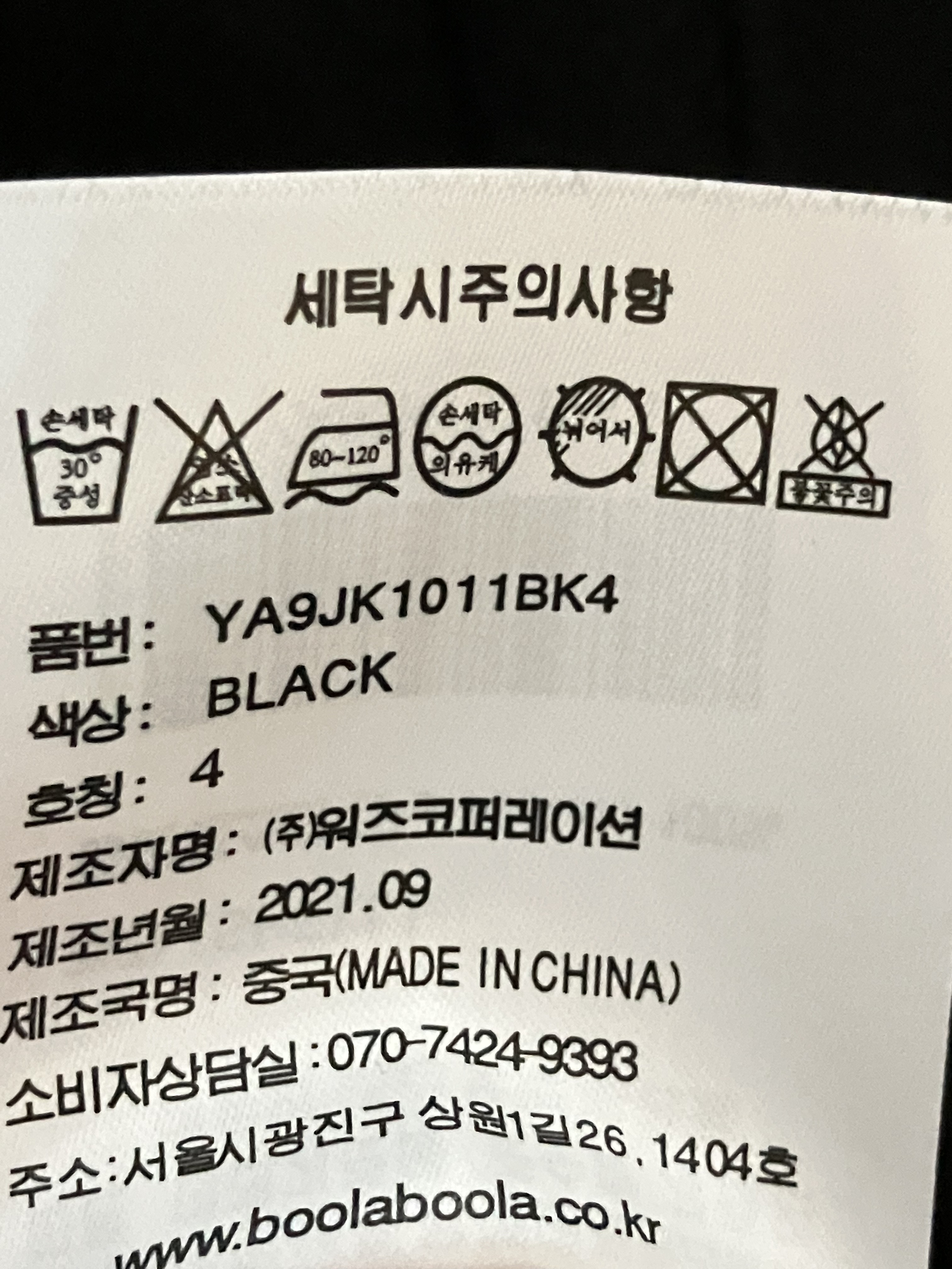KR_dry_clean_petroleum: (407, 375, 530, 500)
KR_flat_dry_in_shade: (535, 371, 653, 494)
KR_hand_wash_30_neutral: (10, 395, 144, 531)
KR_iron_low_temp_with_cloth: (286, 384, 406, 517)
KR_no_bleach: (151, 392, 277, 528)
KR_no_tumble_dry: (657, 366, 774, 515)
